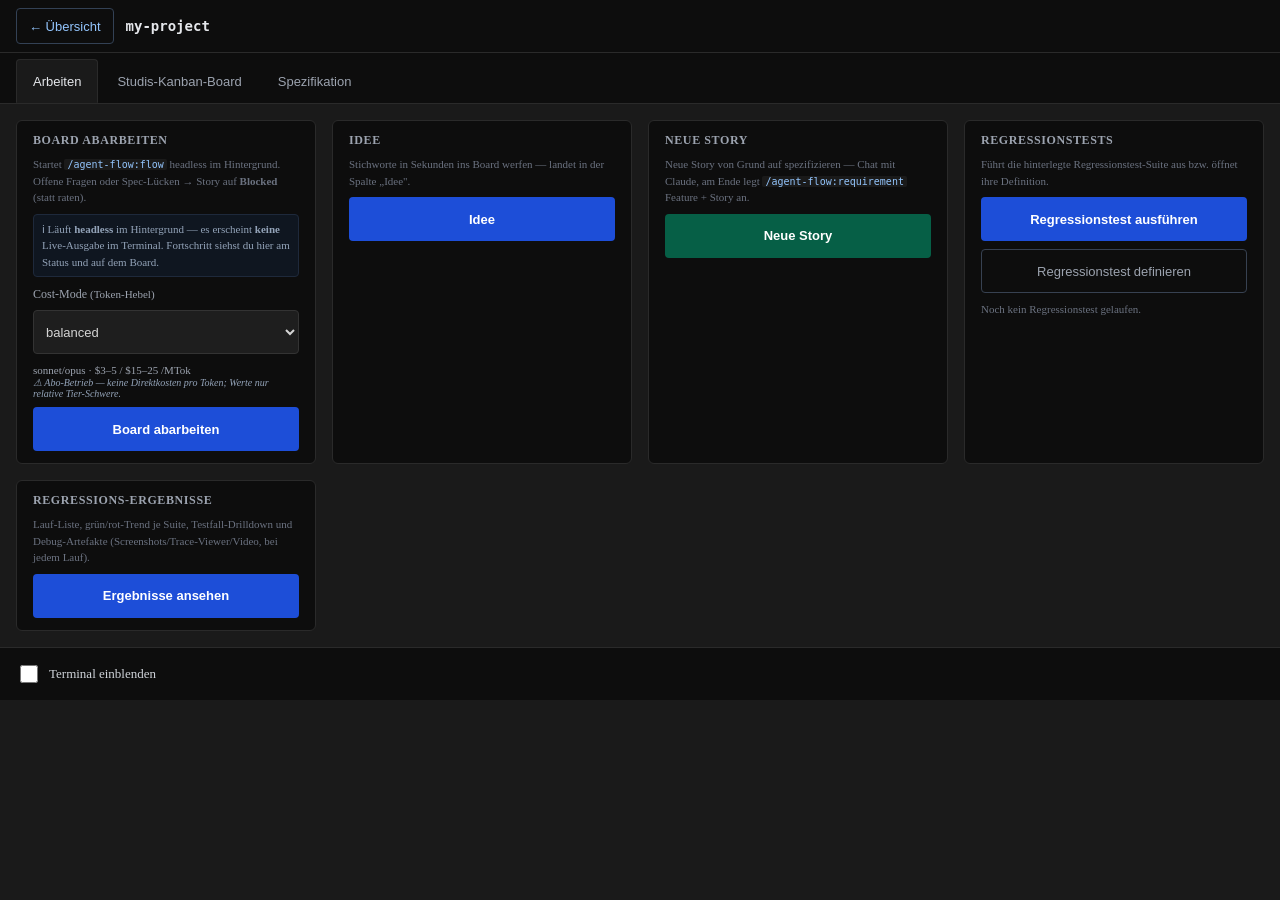
Scenario: CockpitView — AC4 (ideen-inbox): „Idee"-Button im Reiter Arbeiten › Escape closes the modal
The image size is (1280, 900).
Click the button with test id "idea-capture-btn" at point(482, 219), box [349, 197, 615, 241]
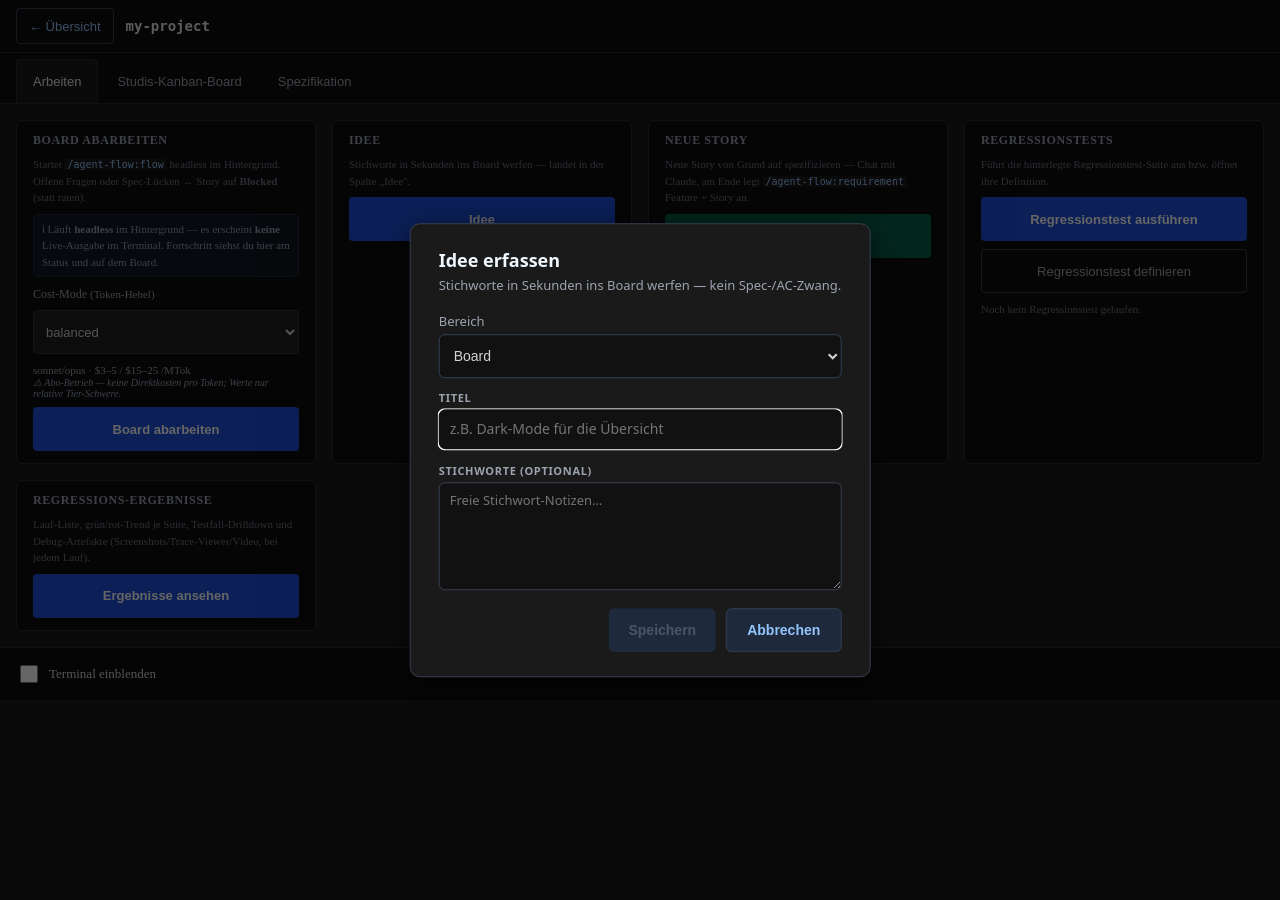
Check: the dialog with test id "idea-capture-modal" is shown
Press Escape in the dialog with test id "idea-capture-modal", box [410, 223, 870, 677]
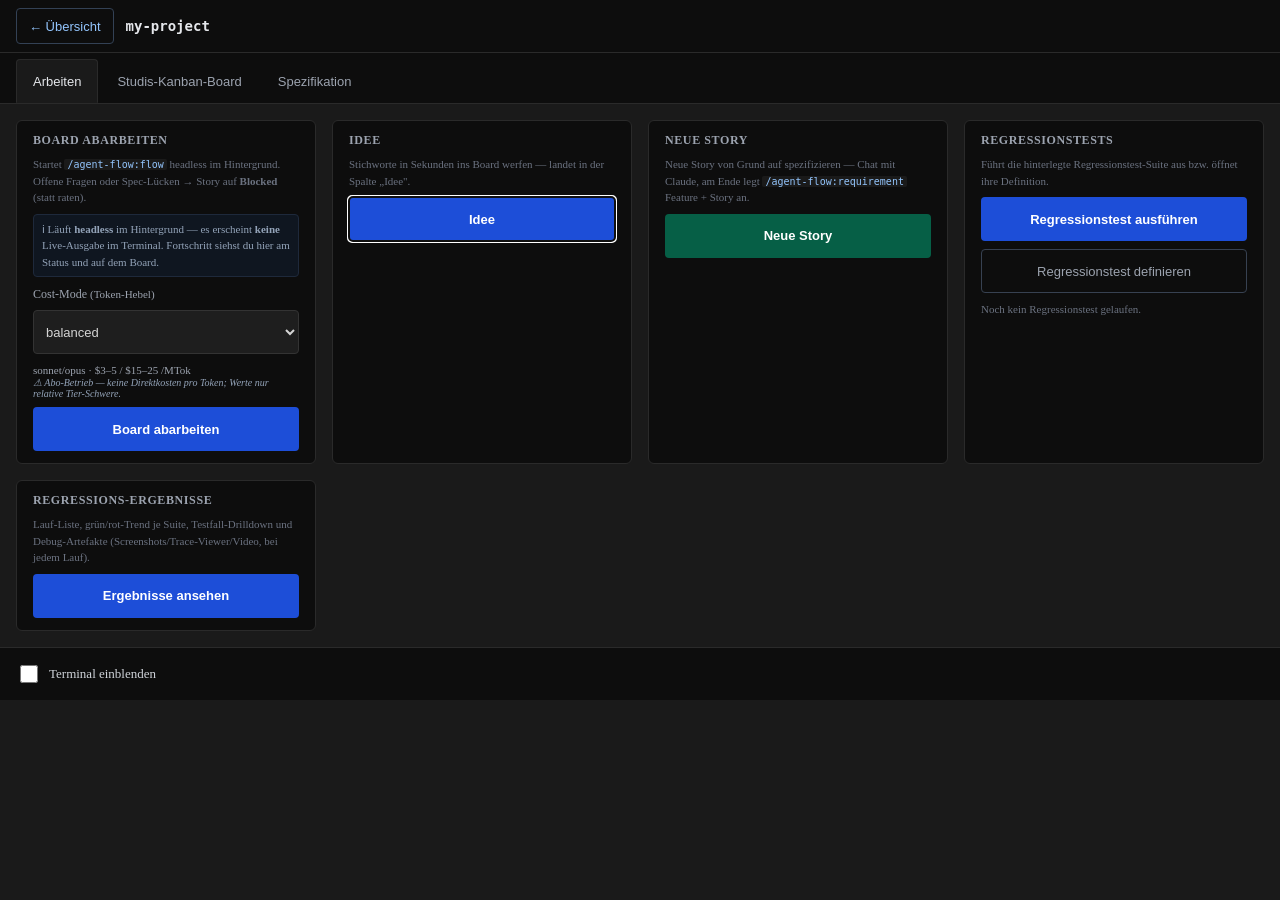
Check: the dialog with test id "idea-capture-modal" is gone
